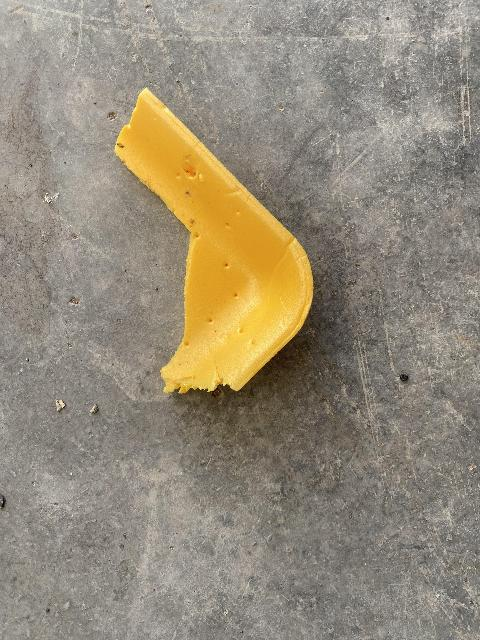Plastik: (108, 94, 321, 394)
